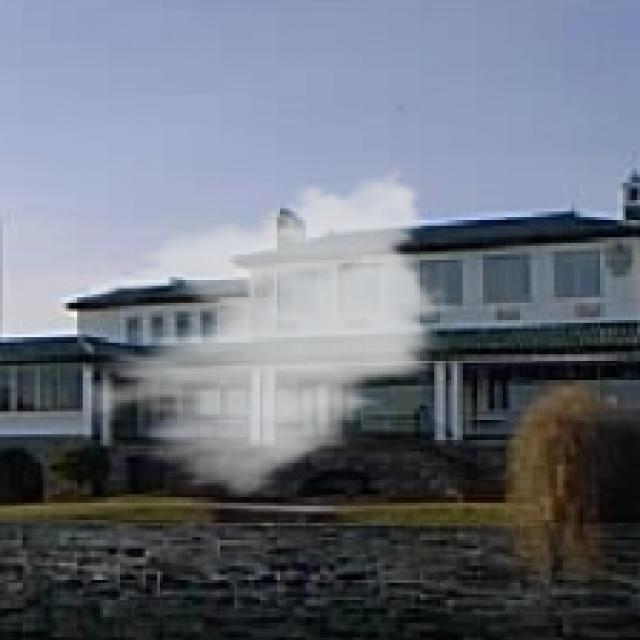Smoke: (86, 160, 452, 506)
